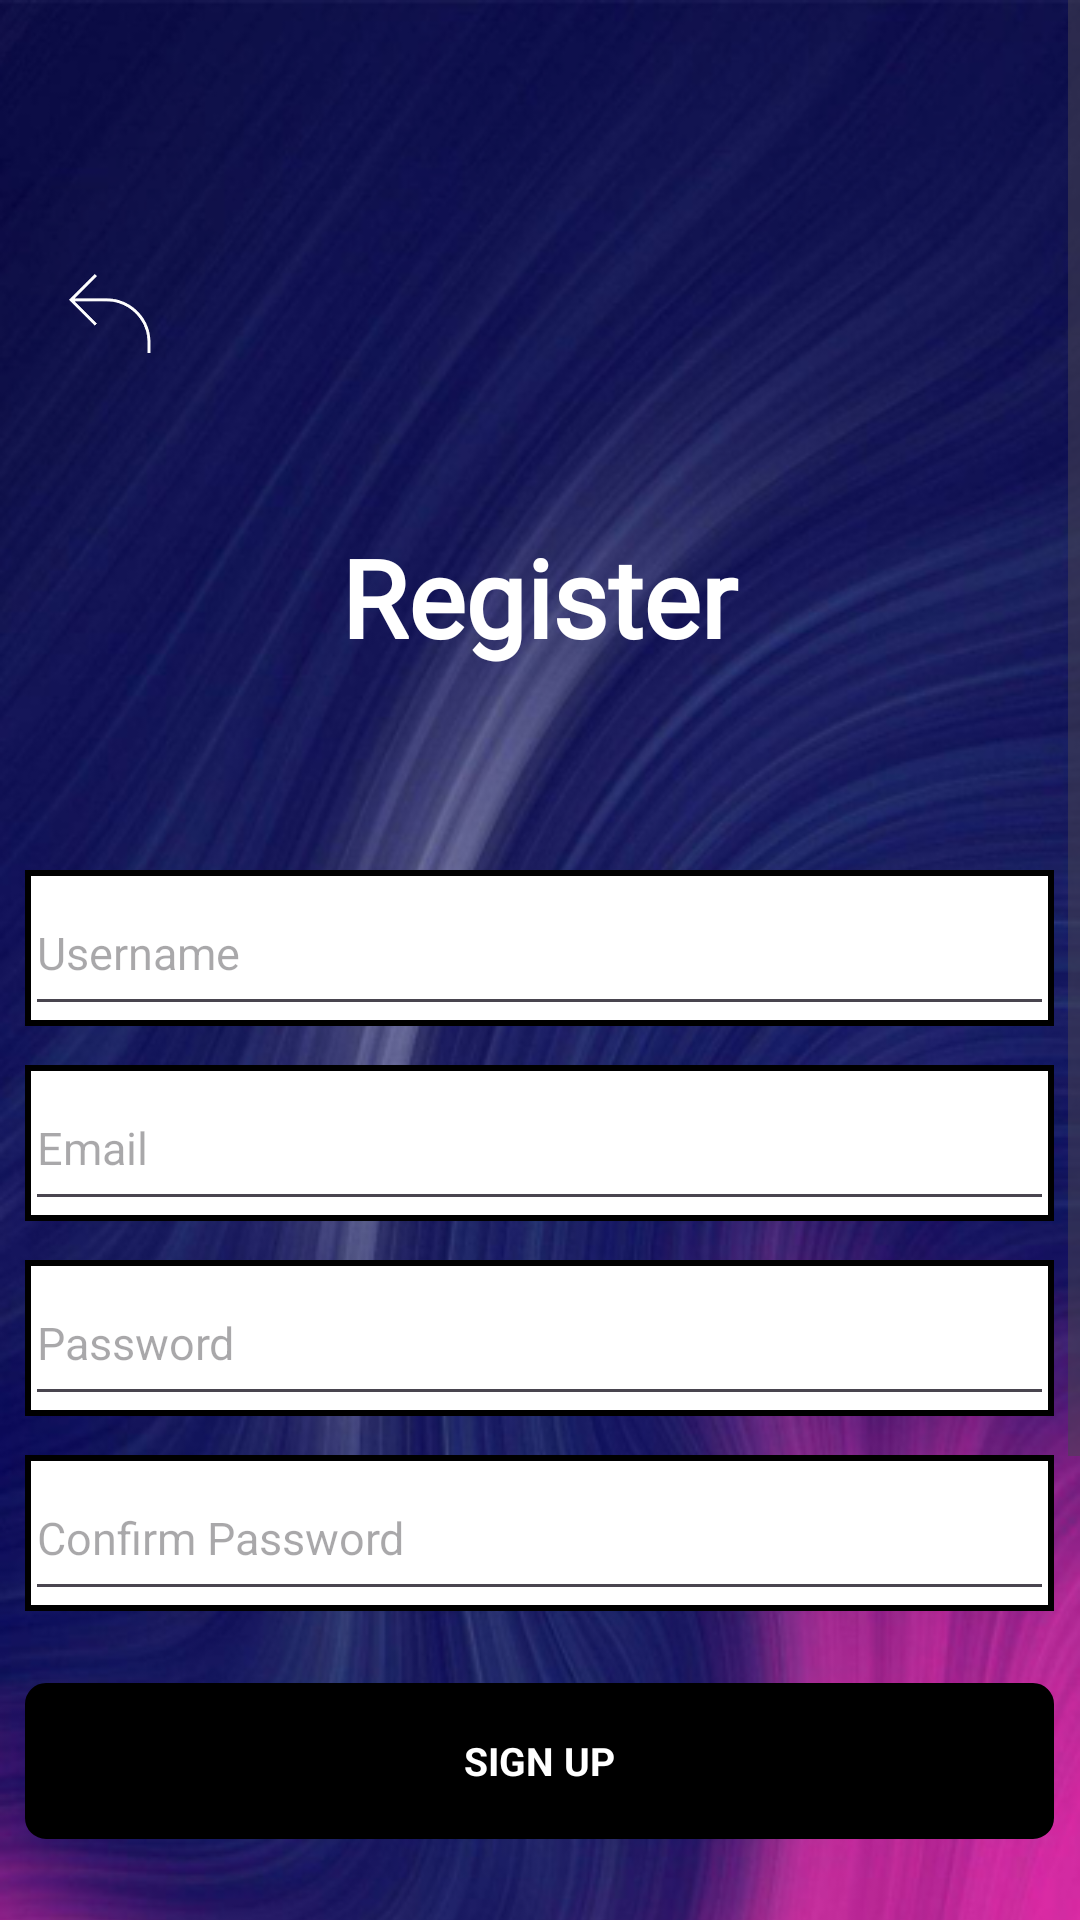

Icon bounding boxes for this 1080×1920 phone screenshot, format bbox(x1, y1, x2, y2):
vectorarrow: bbox(69, 274, 151, 353)
